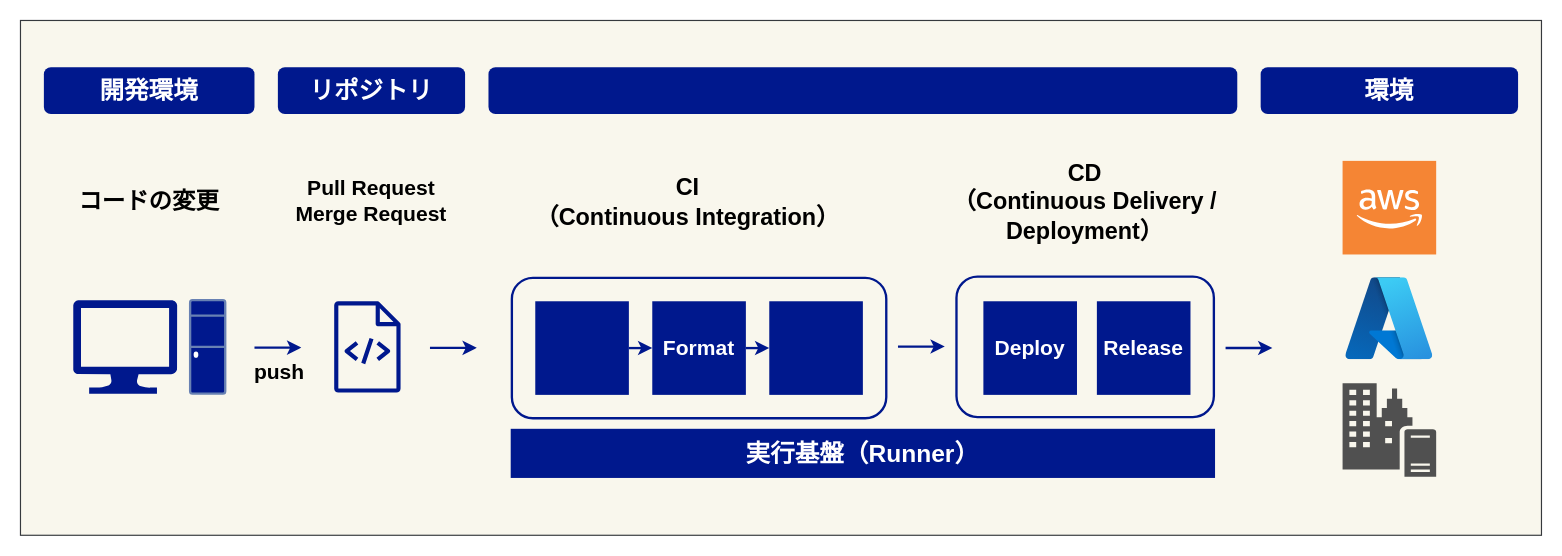
Some shapes in this 1562 by 556 pixel diagram are drawn without their labels. Here are the shapes that lost their labels. From the top down, the box of each, then its label:
(488, 67, 1237, 113): CI/CDパイプライン
(535, 301, 628, 394): Lint
(769, 301, 862, 394): Test
